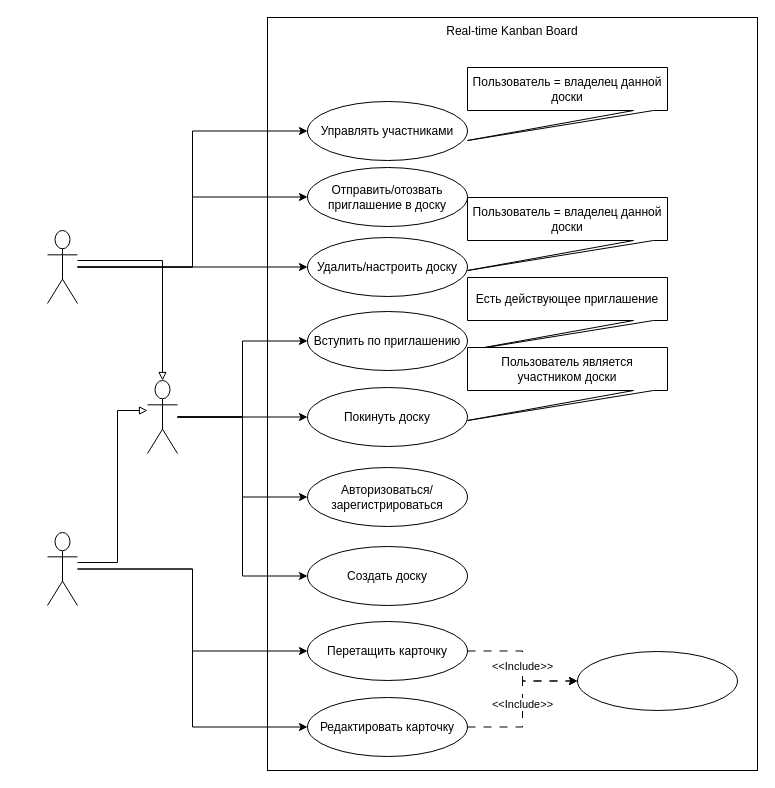
Some shapes in this 775 by 788 pixel diagram are drawn without their labels. The box of each missing label's shape, as (x1, y1, x2, y2) in pixels:
Владелец доски: (46, 230, 78, 304)
Получить real-time обновления: (576, 650, 738, 710)
Пользователь: (146, 380, 178, 454)
Участник доски: (46, 532, 78, 606)
